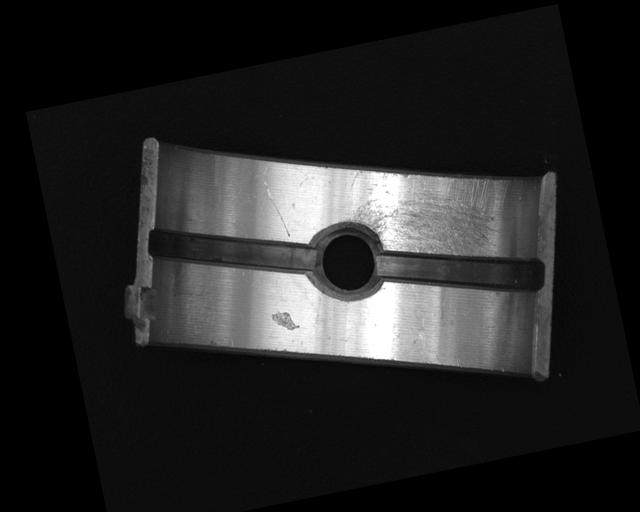bruise: (268, 306, 300, 334)
gap: (146, 200, 318, 304), (373, 223, 548, 322)
hole: (304, 215, 389, 307)
nick: (263, 177, 291, 240)
scratch: (343, 143, 524, 288)
